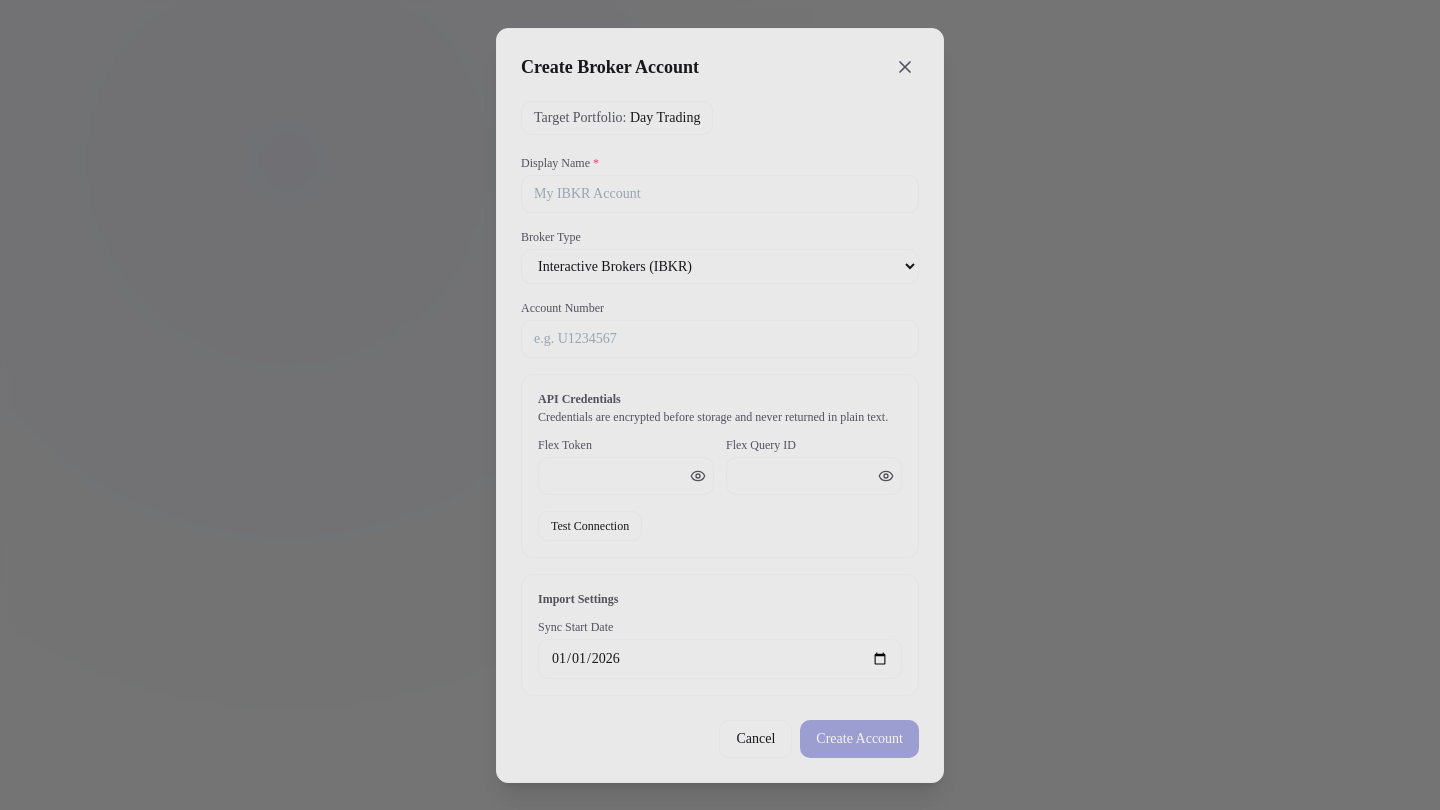
Test: BrokerAccountCreateModal › test connection failure shows error but save remains enabled
The width and height of the screenshot is (1440, 810).
Type "My Account" into the field with test id "account-name-input" at (720, 194), box [521, 174, 919, 212]
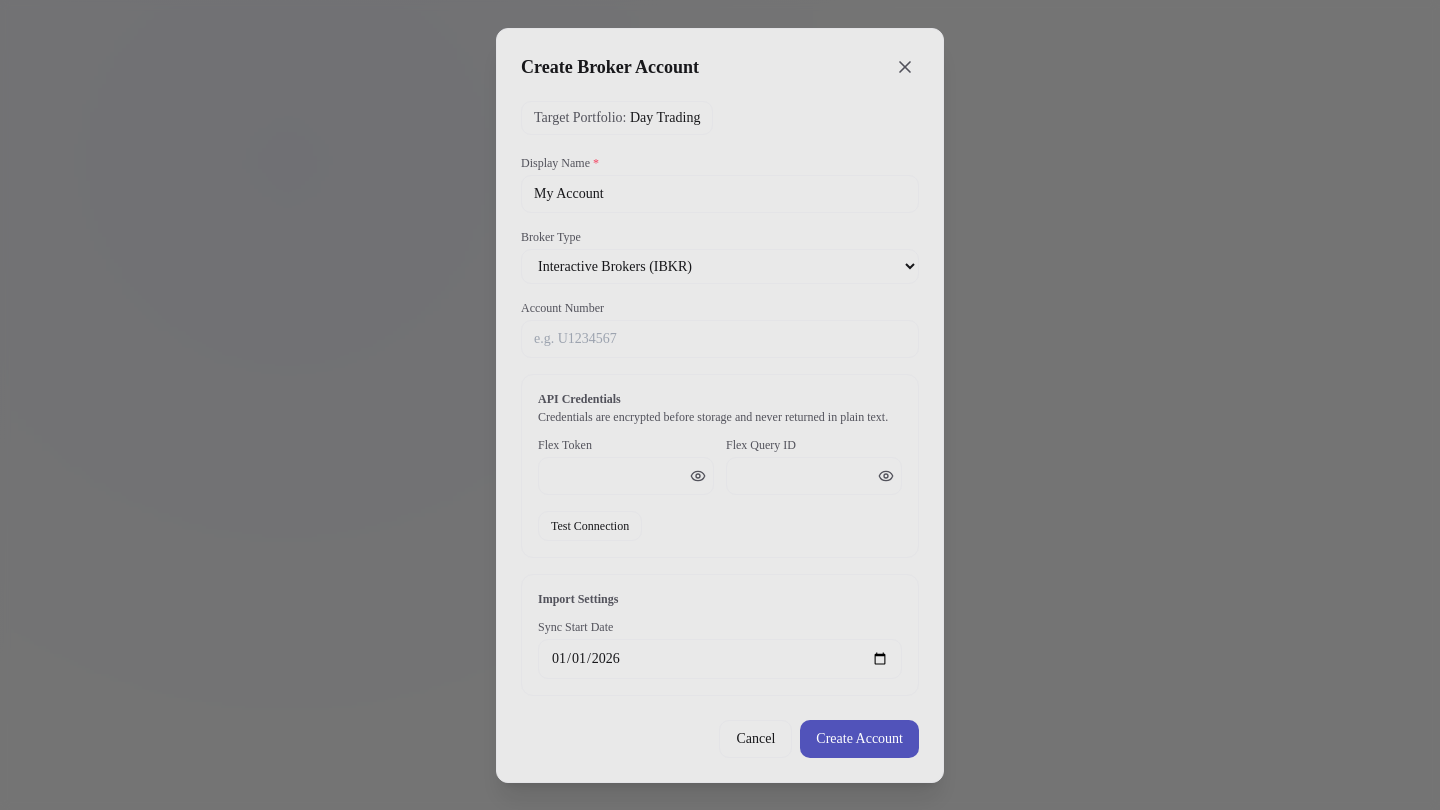
Click the button with test id "test-connection-button" at (590, 526), box [538, 510, 642, 540]
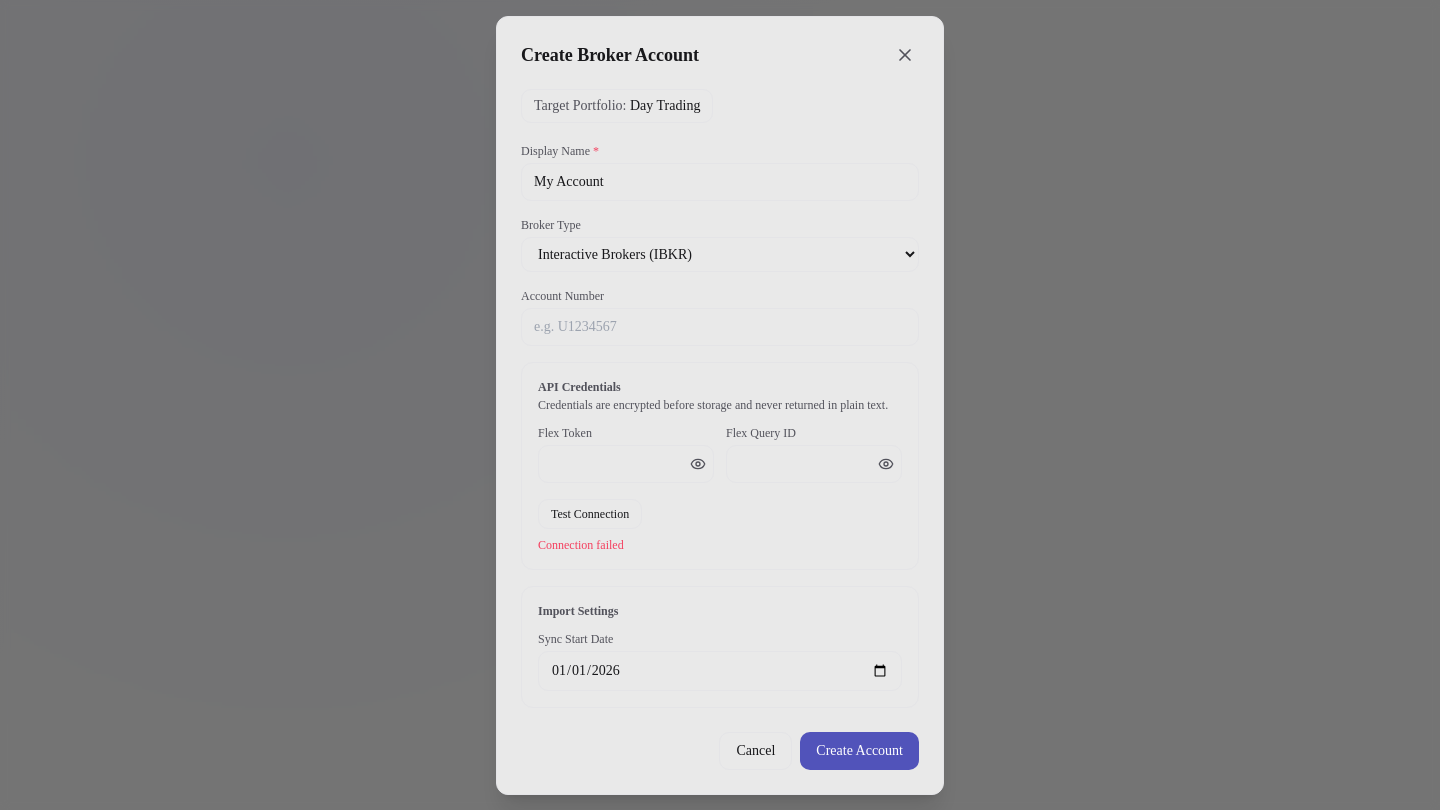
expect the button with test id "submit-create-account" is enabled: met, box [800, 732, 919, 770]
expect the text "Connection failed" is shown: met, box [538, 538, 624, 552]
